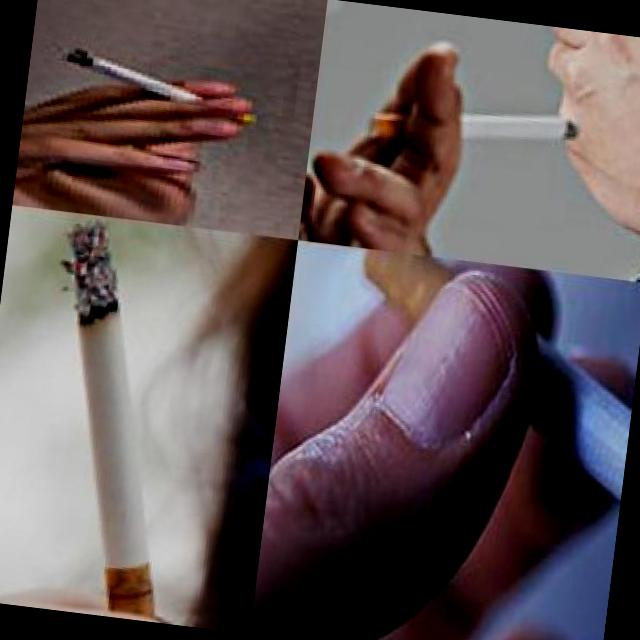cigarette: (327, 248, 640, 571), (24, 219, 203, 616), (44, 40, 262, 122), (368, 94, 580, 164)
